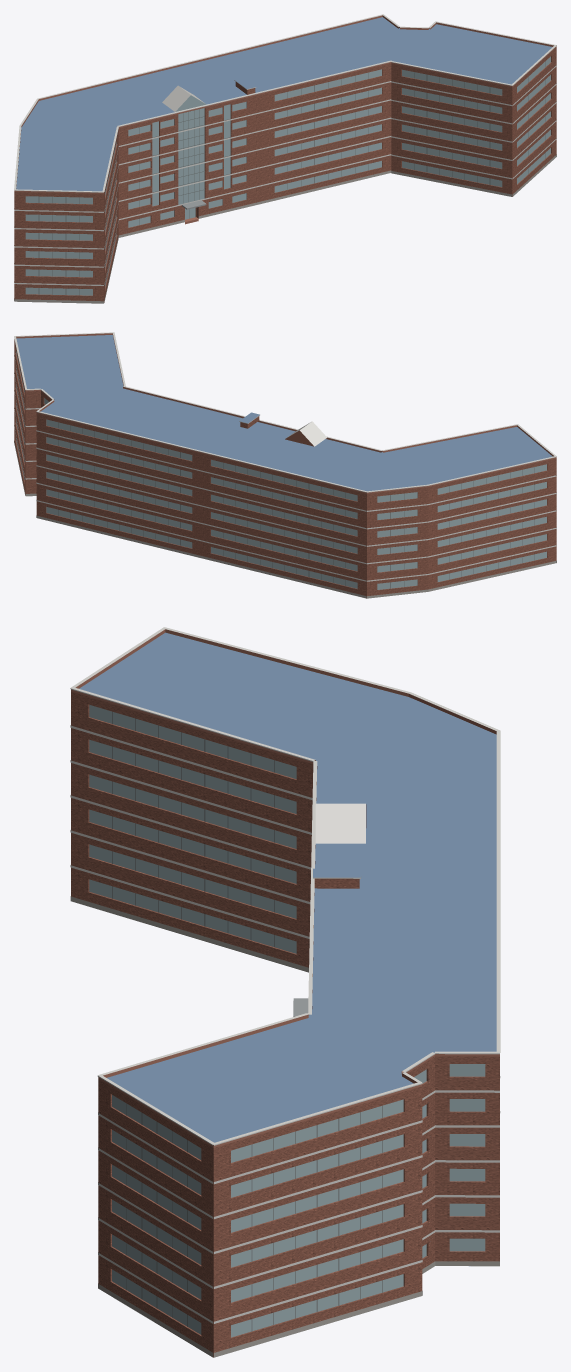
3 renders of one model, top to bottom at view 1: azimuth 30°, elevation 25°; view 2: azimuth 150°, elevation 25°; view 3: azimuth 270°, elevation 25°, orthographic. The views are drawn at different scales.
Visible parts, largest first — view 1: b115951781__wall, b115951781__roof, b115951781__glass, b115951781__trim, b115951781__parapet, b115951781__base, b115951781__frame; view 2: b115951781__wall, b115951781__roof, b115951781__glass, b115951781__trim, b115951781__parapet, b115951781__base, b115951781__frame; view 3: b115951781__roof, b115951781__wall, b115951781__glass, b115951781__trim, b115951781__parapet, b115951781__base, b115951781__frame.
Boxes of the visible parts, left/top/right/bottom form: b115951781__wall: left=14, top=47, right=556, bottom=302; b115951781__roof: left=16, top=17, right=552, bottom=191; b115951781__glass: left=25, top=56, right=550, bottom=295; b115951781__trim: left=14, top=14, right=556, bottom=285; b115951781__parapet: left=14, top=15, right=556, bottom=193; b115951781__base: left=14, top=154, right=556, bottom=303; b115951781__frame: left=38, top=61, right=545, bottom=295; b115951781__wall: left=14, top=339, right=556, bottom=598; b115951781__roof: left=16, top=335, right=552, bottom=491; b115951781__glass: left=16, top=351, right=546, bottom=589; b115951781__trim: left=14, top=332, right=556, bottom=581; b115951781__parapet: left=16, top=333, right=556, bottom=493; b115951781__base: left=14, top=441, right=556, bottom=598; b115951781__frame: left=24, top=389, right=534, bottom=588; b115951781__roof: left=79, top=632, right=496, bottom=1266; b115951781__wall: left=71, top=691, right=499, bottom=1357; b115951781__glass: left=89, top=705, right=485, bottom=1337; b115951781__trim: left=70, top=627, right=500, bottom=1323; b115951781__parapet: left=71, top=629, right=499, bottom=1147; b115951781__base: left=70, top=896, right=499, bottom=1357; b115951781__frame: left=112, top=711, right=382, bottom=1331.
Bounding box in the file's own units: 114 × 24.95 × 40.19.
10 materials, 1 textured.
